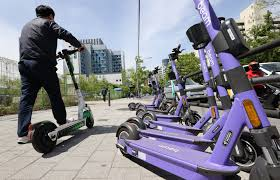kick_body: (158, 117, 196, 133)
kick_handler: (168, 44, 186, 61)
kick_neck: (68, 64, 88, 102), (172, 66, 188, 101)
kick_wheel: (32, 122, 57, 154), (116, 123, 138, 157), (84, 110, 94, 128), (136, 110, 144, 120), (128, 102, 136, 111)
